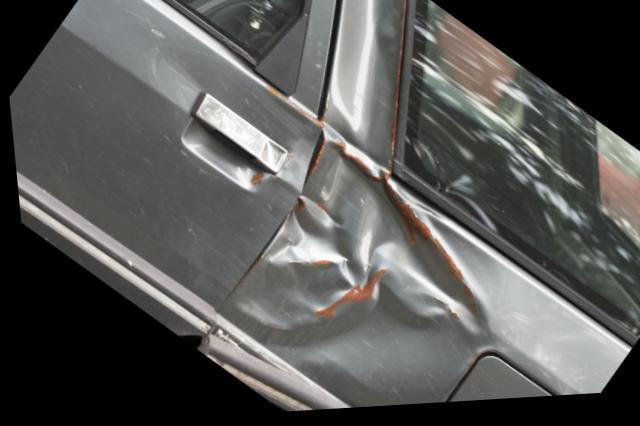dent: (224, 137, 482, 393)
